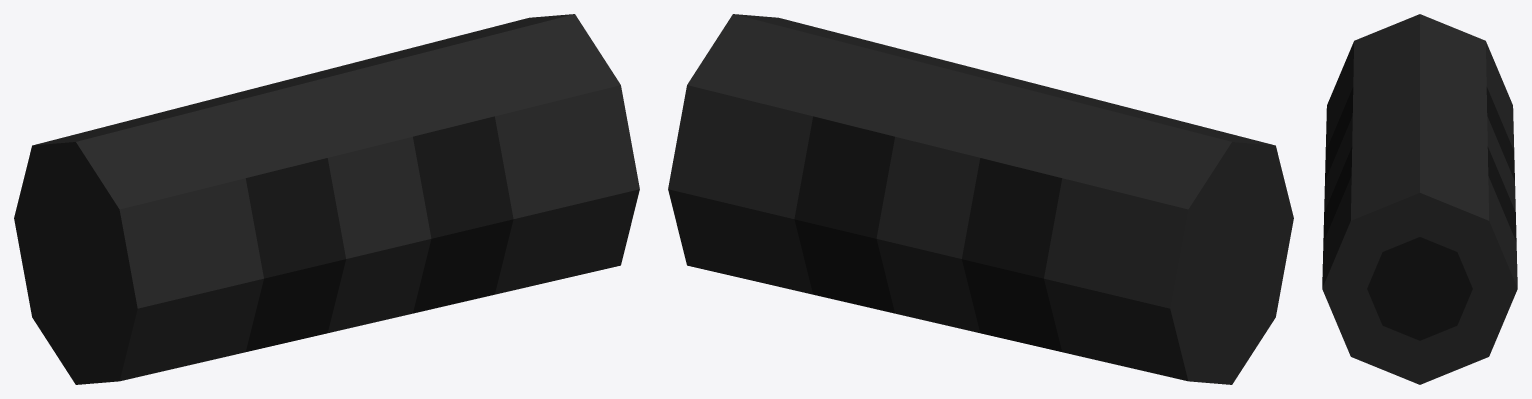
Rendered from Accesories_muzzlebrake_C_V1.FBX.
3 renders of one model, left to right at view 1: azimuth 30°, elevation 25°; view 2: azimuth 150°, elevation 25°; view 3: azimuth 270°, elevation 25°, orthographic. The views are drawn at different scales.
Visible parts, largest first — view 1: Accesories_muzzlebrake_C_V1; view 2: Accesories_muzzlebrake_C_V1; view 3: Accesories_muzzlebrake_C_V1.
Boxes of the visible parts, <box> form: Accesories_muzzlebrake_C_V1: <box>14,14,639,384</box>; Accesories_muzzlebrake_C_V1: <box>668,14,1293,384</box>; Accesories_muzzlebrake_C_V1: <box>1322,14,1517,384</box>.
Bounding box in the file's own units: 32.95 × 16.11 × 14.85.
